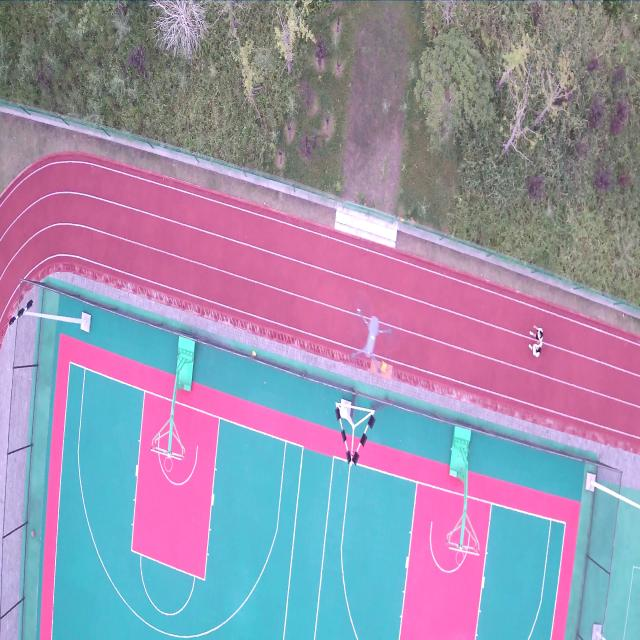UAV: (349, 306, 393, 376)
